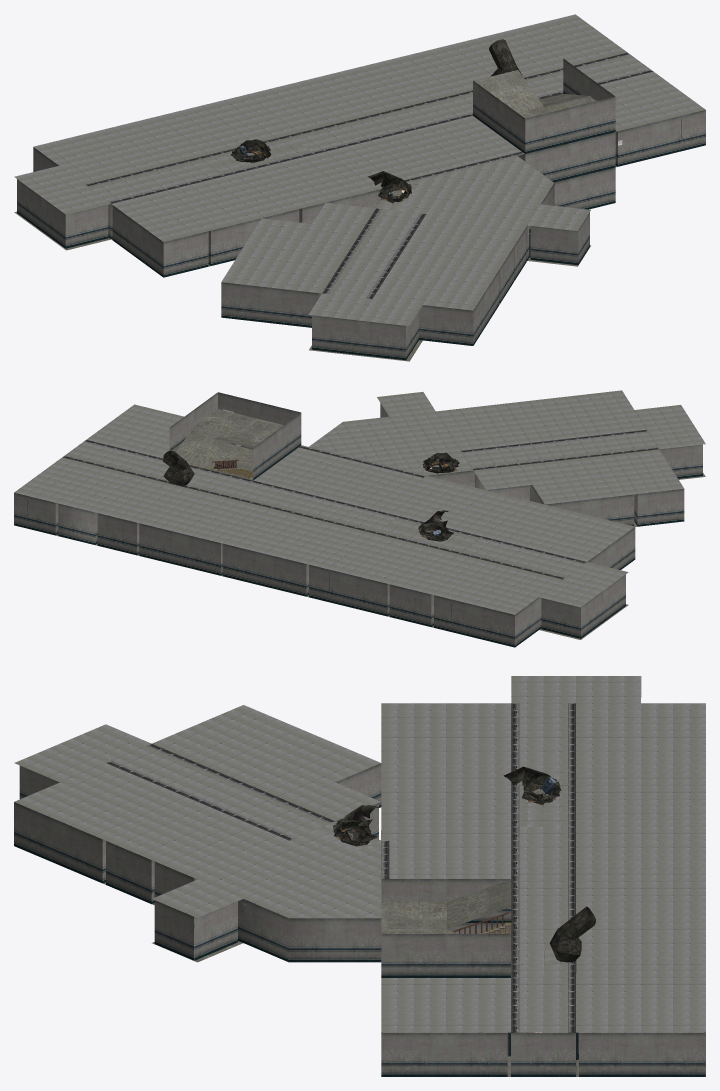
File: _Probe (merge).fbx
3 views of the same model, one above another, from view 1: azimuth 30°, elevation 25°; view 2: azimuth 150°, elevation 25°; view 3: azimuth 270°, elevation 25° (orthographic). The views are drawn at different scales.
Parts seen in each view (by area): view 1: Plane002; view 2: Plane002; view 3: Plane002.
Boxes of the visible parts, left/top/right/bottom form: Plane002: left=14, top=14, right=705, bottom=361; Plane002: left=14, top=390, right=705, bottom=647; Plane002: left=14, top=676, right=705, bottom=1076.
Bounding box in the file's own units: 120 × 21.66 × 98.05.
2 materials, 2 textured.
